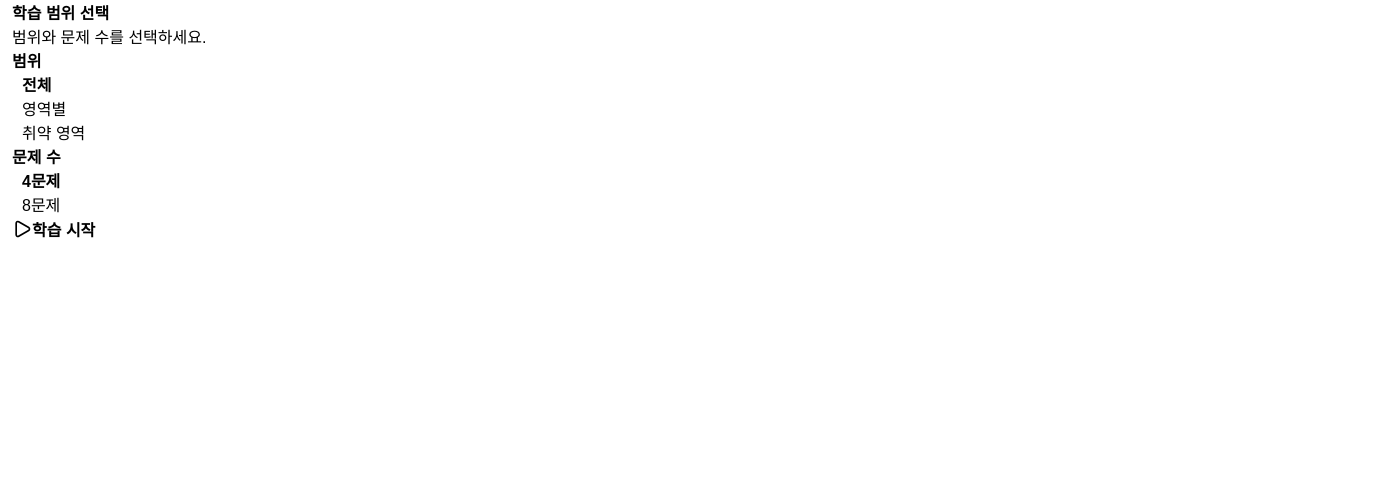
it: 학습 화면 버튼 위계 › 풀이 화면: 제출=primary·이전/다음/Pass=secondary·지우기=ghost·포기=destructive
Click the button "학습 시작". click: click(54, 229)
box: [12,216,95,242]
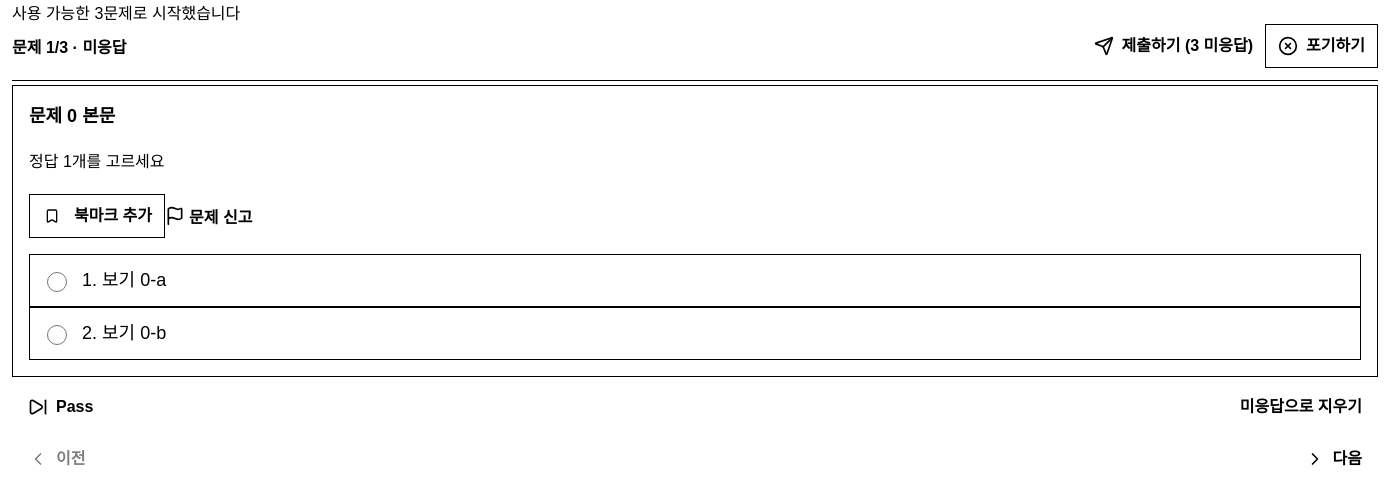
expect the text "문제 1/3 · 미응답" is shown: met, box [12,34,127,58]
